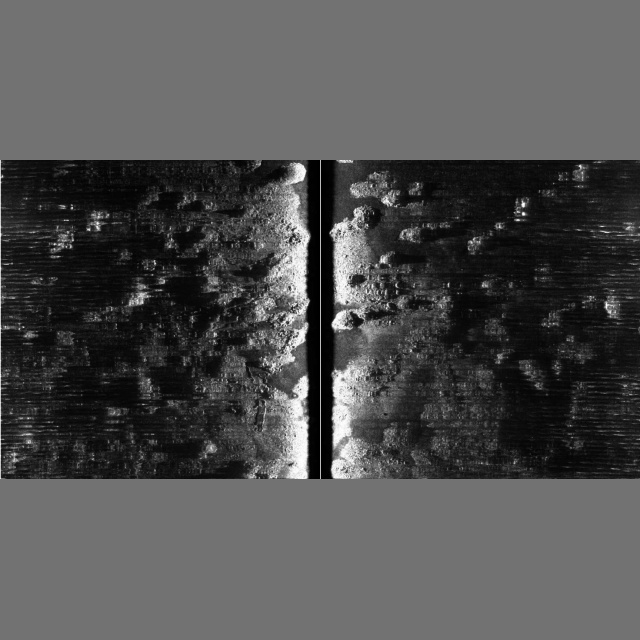Shipwreck: (255, 398, 267, 433)
